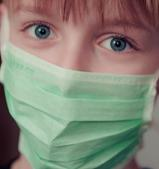with_mask: (1, 2, 159, 169)
